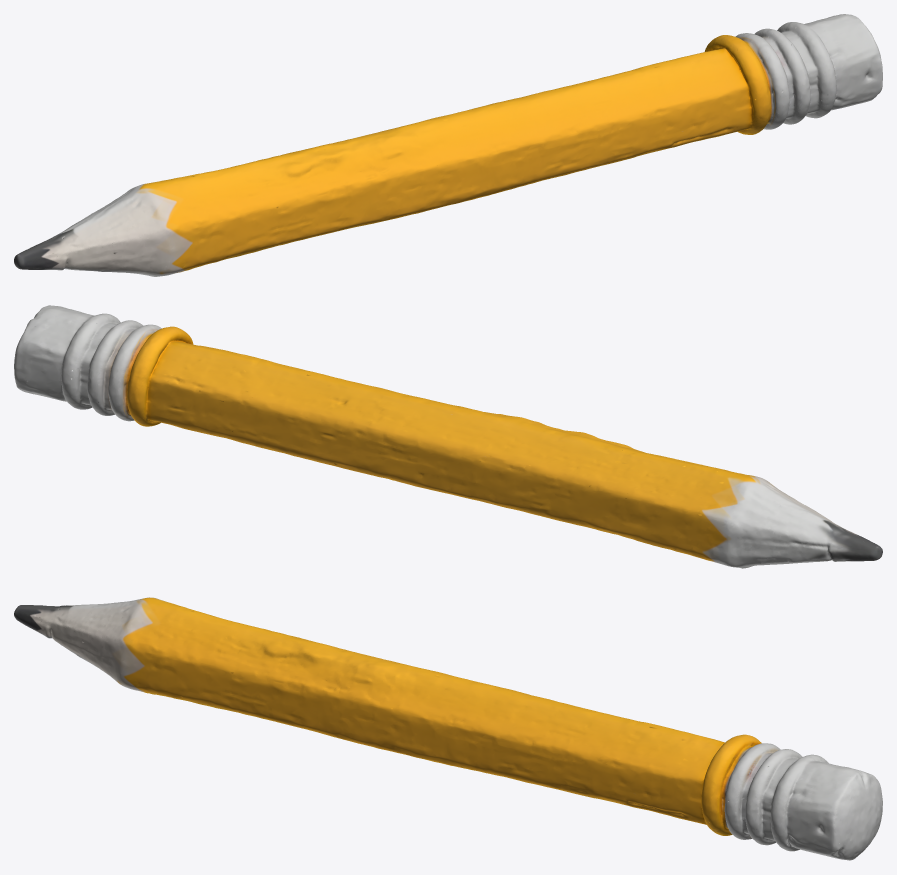
Rendered from PencilSpear.fbx.
The picture shows the model from 3 angles, top to bottom: view 1: azimuth 30°, elevation 25°; view 2: azimuth 150°, elevation 25°; view 3: azimuth 330°, elevation 25°; orthographic projection.
Parts seen in each view (by area): view 1: input; view 2: input; view 3: input.
Boxes of the visible parts, <box> form: input: <box>14,14,882,276</box>; input: <box>14,305,882,568</box>; input: <box>14,597,882,860</box>.
Bounding box in the file's own units: 190 × 19.17 × 22.06.
1 material, 1 textured.
